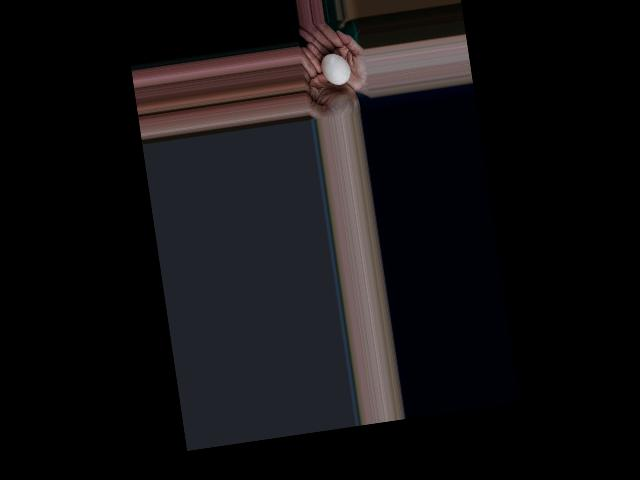egg: (319, 51, 351, 86)
